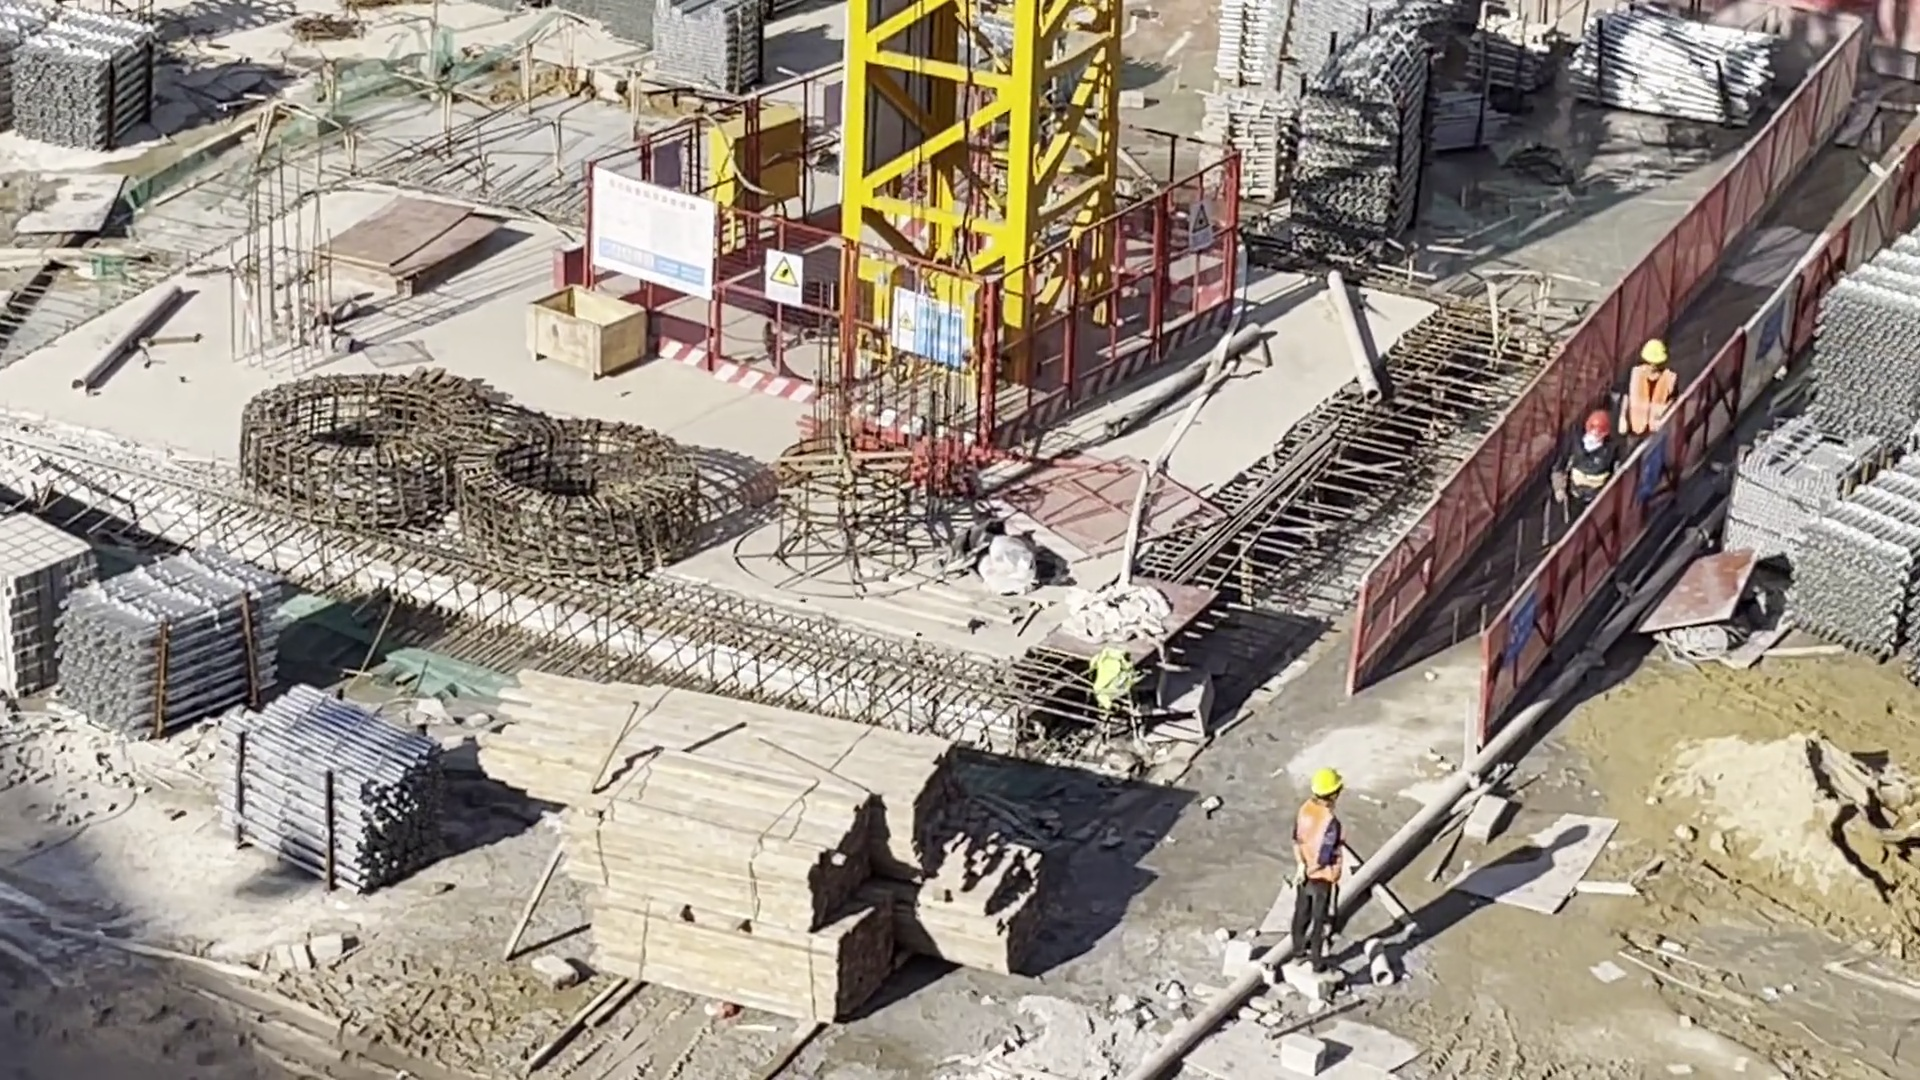board: (331, 208, 479, 288)
brick: (1, 522, 66, 693)
ebox: (716, 110, 808, 216)
fence: (1362, 38, 1920, 703)
helmet: (1585, 411, 1611, 437), (1642, 337, 1667, 364), (1313, 770, 1342, 793)
person: (1288, 769, 1344, 980), (1562, 412, 1621, 534), (1624, 339, 1679, 456)
scaffold: (1209, 1, 1424, 235), (1811, 247, 1920, 670), (223, 687, 447, 893), (58, 549, 273, 727), (1570, 8, 1774, 123), (2, 1, 151, 149), (649, 1, 763, 91), (1467, 12, 1553, 97)
slogan: (890, 308, 967, 365), (1509, 585, 1538, 654), (763, 249, 801, 301), (1638, 438, 1666, 504), (1189, 201, 1216, 251)
vest: (1297, 806, 1338, 881), (1632, 372, 1679, 433)
wood: (497, 683, 955, 887), (573, 768, 897, 1026)
